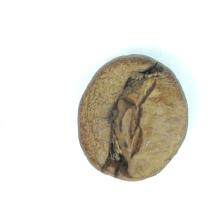NG: (84, 56, 173, 177)
